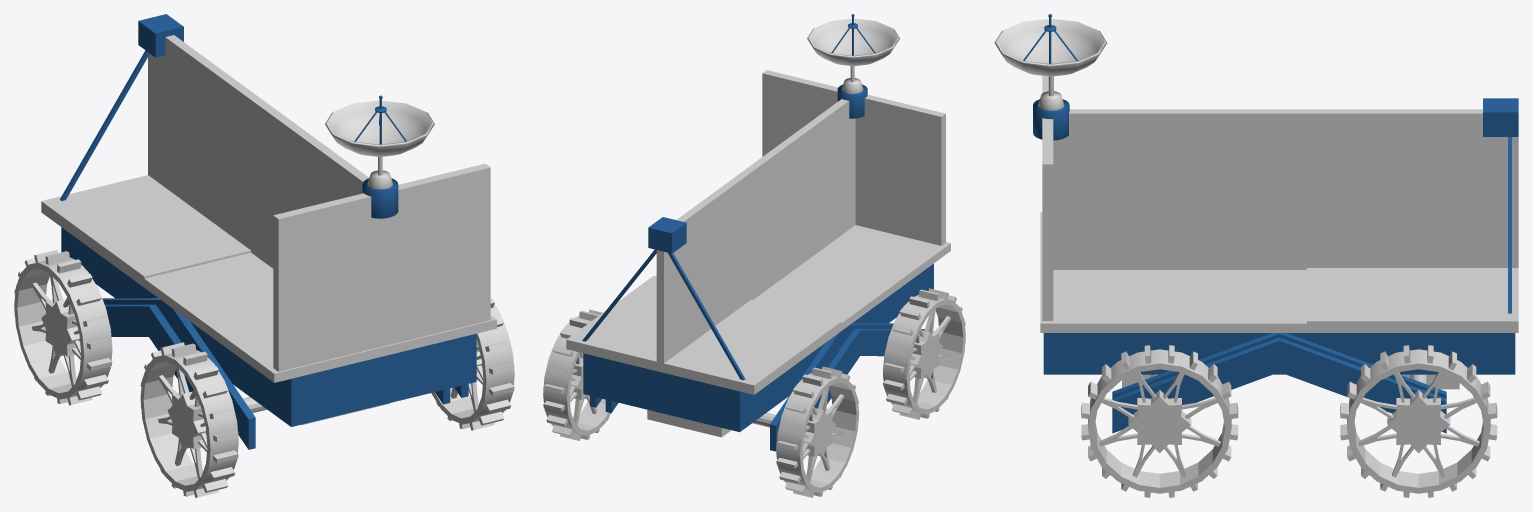
File: Rover.fbx
3 views of the same model, side by side, from view 1: azimuth 30°, elevation 25°; view 2: azimuth 150°, elevation 25°; view 3: azimuth 270°, elevation 25° (orthographic). The views are drawn at different scales.
Parts seen in each view (by area): view 1: polySurface94; view 2: polySurface94; view 3: polySurface94.
Part boxes in pixels (box(x1,y1,x2,y2)): polySurface94: box(14, 14, 514, 497); polySurface94: box(543, 14, 965, 497); polySurface94: box(994, 14, 1518, 497).
Bounding box in the file's own units: 10.49 × 13.15 × 15.27.
